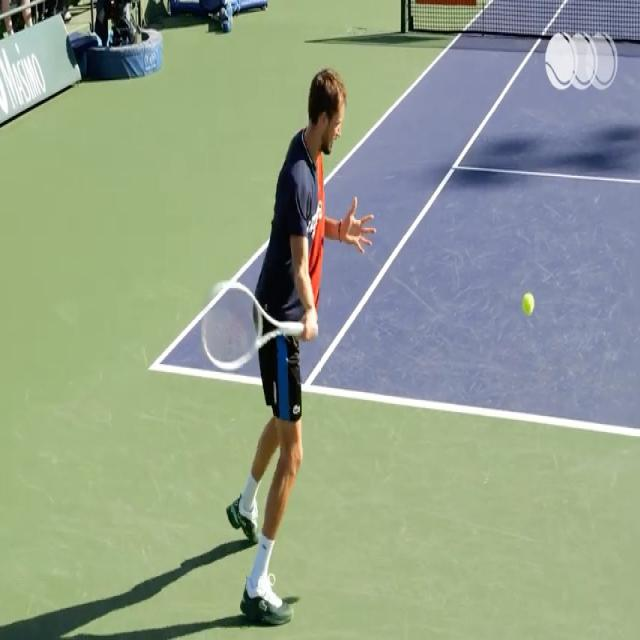forehand-ready: (202, 6, 375, 613)
